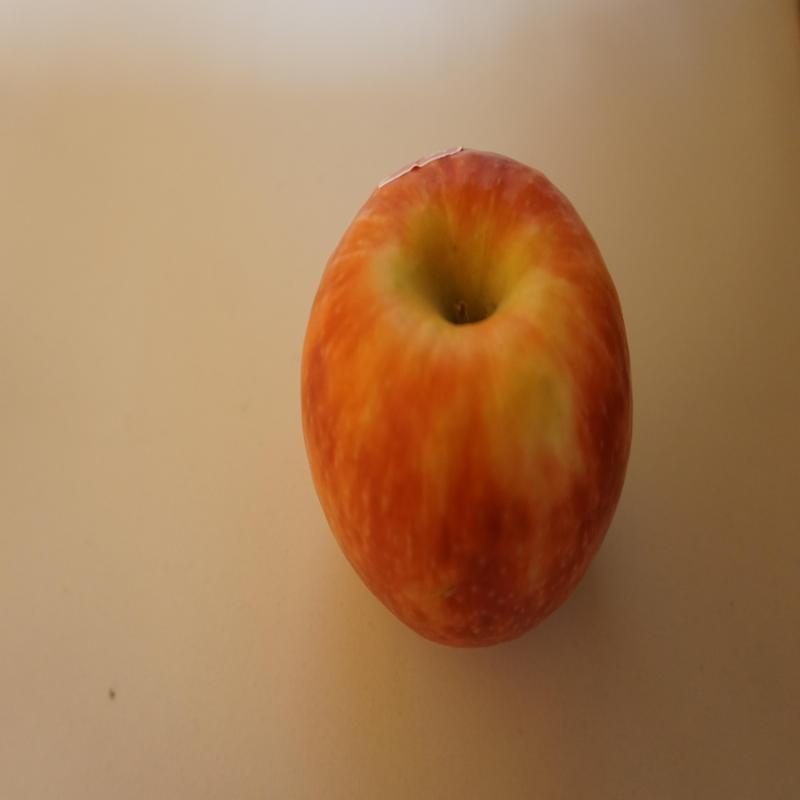Apple: (299, 150, 635, 652)
